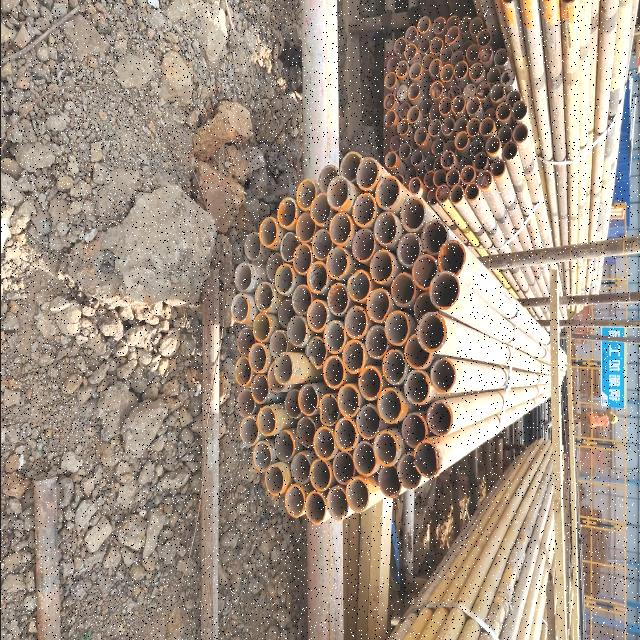pipe: (412, 440, 442, 480), (416, 312, 446, 352), (430, 274, 460, 310), (404, 333, 431, 371), (439, 240, 467, 276), (421, 220, 449, 256), (404, 369, 430, 407), (426, 401, 452, 438), (369, 248, 394, 286), (358, 365, 383, 403), (400, 196, 426, 232), (375, 175, 401, 211), (389, 272, 415, 308), (352, 442, 378, 478), (381, 351, 406, 388), (326, 485, 349, 525), (397, 452, 421, 490), (332, 450, 356, 488), (355, 404, 381, 439), (431, 358, 456, 394), (397, 233, 421, 270), (374, 431, 398, 468), (304, 491, 328, 528), (412, 254, 438, 288), (333, 417, 358, 452), (356, 157, 380, 193), (384, 310, 408, 346), (401, 413, 425, 449), (377, 388, 401, 424), (345, 478, 369, 514), (366, 288, 390, 324), (377, 464, 401, 499), (313, 426, 336, 462), (351, 228, 375, 262), (364, 326, 388, 360), (344, 306, 368, 340), (325, 246, 349, 280), (346, 270, 371, 302), (352, 194, 374, 230), (323, 319, 345, 355), (337, 384, 359, 420), (318, 392, 340, 428), (374, 212, 397, 246), (322, 356, 345, 390), (316, 163, 339, 196), (340, 151, 362, 185), (342, 341, 364, 375), (306, 300, 328, 334), (304, 337, 326, 371), (291, 284, 314, 316), (329, 213, 351, 246), (292, 243, 314, 276), (296, 416, 316, 452), (327, 282, 348, 316), (310, 192, 331, 226), (326, 178, 348, 210), (310, 230, 332, 262), (306, 262, 328, 294), (295, 212, 317, 244), (297, 385, 319, 417), (276, 198, 298, 230), (273, 352, 293, 387), (291, 452, 311, 487), (310, 459, 330, 493), (296, 178, 316, 212), (284, 485, 304, 519), (264, 464, 284, 498), (274, 263, 295, 295), (286, 316, 306, 348), (279, 232, 299, 264), (264, 252, 284, 284), (256, 406, 276, 438), (251, 442, 271, 474), (274, 430, 294, 462), (259, 216, 277, 250), (283, 389, 302, 421), (233, 262, 252, 294), (236, 388, 255, 420), (249, 375, 269, 405), (238, 416, 258, 446), (278, 298, 296, 330), (248, 342, 266, 374), (236, 328, 255, 358), (255, 282, 272, 314), (269, 331, 289, 358), (243, 232, 261, 262), (230, 294, 248, 324), (252, 314, 270, 344), (234, 358, 252, 388), (512, 124, 528, 144), (468, 16, 484, 36), (477, 45, 493, 65), (494, 103, 510, 123), (502, 142, 518, 162), (484, 136, 500, 156), (490, 159, 506, 179), (478, 117, 494, 137), (472, 153, 488, 173), (476, 170, 492, 190), (490, 83, 504, 105), (454, 131, 468, 153), (497, 125, 513, 144), (512, 102, 527, 122), (453, 61, 468, 81), (447, 85, 462, 105), (453, 117, 468, 137), (416, 15, 430, 36), (505, 90, 521, 108), (475, 30, 491, 48), (465, 98, 481, 116), (463, 184, 479, 202), (450, 96, 465, 115), (445, 26, 459, 46), (476, 82, 490, 102), (462, 84, 476, 104), (466, 118, 480, 138), (469, 138, 483, 158), (460, 165, 474, 185), (438, 97, 452, 117), (439, 64, 453, 84), (449, 186, 463, 206), (428, 119, 442, 139), (428, 58, 442, 78), (435, 185, 449, 205), (500, 70, 515, 88), (432, 170, 447, 188), (382, 110, 397, 128), (494, 49, 508, 68), (483, 106, 497, 125), (388, 134, 401, 154), (486, 67, 500, 85), (429, 80, 443, 98), (445, 169, 459, 187), (440, 150, 454, 168), (442, 138, 456, 156), (429, 38, 443, 56), (432, 18, 446, 36), (403, 44, 417, 62), (407, 84, 421, 102), (413, 128, 427, 146), (398, 144, 412, 162), (382, 93, 396, 111), (383, 72, 397, 90), (386, 56, 400, 74), (418, 115, 431, 134), (418, 36, 430, 56), (396, 84, 408, 104), (428, 105, 442, 122), (407, 178, 421, 195), (441, 118, 454, 136), (439, 48, 452, 66), (421, 54, 434, 72), (404, 26, 417, 44), (393, 38, 406, 56), (384, 152, 397, 170), (445, 16, 459, 32), (450, 52, 464, 68), (469, 64, 483, 80), (459, 157, 473, 173), (430, 140, 444, 156), (403, 166, 417, 182), (424, 80, 434, 102), (458, 17, 470, 35), (420, 98, 432, 116), (433, 157, 445, 175), (423, 155, 435, 173), (423, 172, 435, 190), (426, 188, 438, 206), (396, 61, 408, 79), (409, 62, 421, 80), (407, 107, 419, 125), (398, 102, 410, 120), (465, 46, 479, 61), (410, 151, 422, 167), (396, 120, 408, 136), (392, 173, 404, 187)
